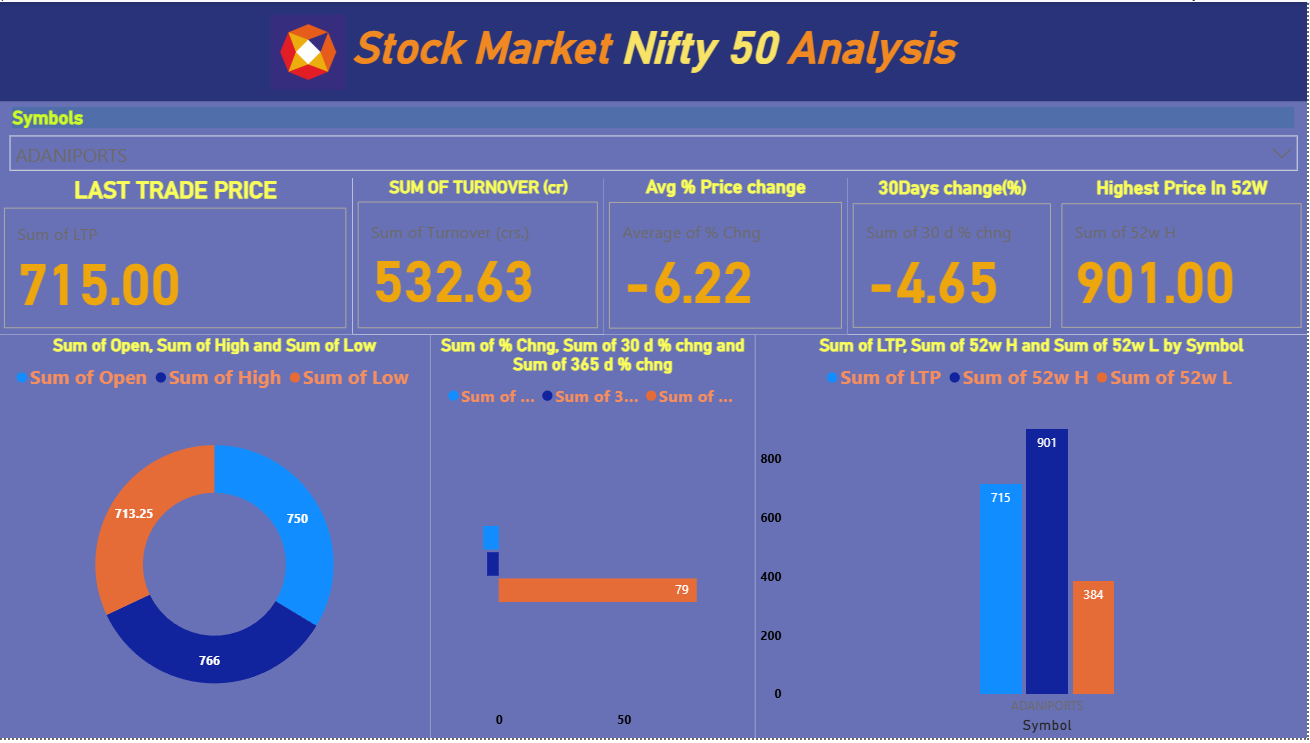

What the dashboard file says about the page in this screenshot:
{"tool":"powerbi","page":{"name":"Page 1","canvas":[1280,720],"ordinal":0},"visuals":[{"type":"textbox","box":[0,0,1280.3,97.4],"z":0},{"type":"image","box":[259.3,6.9,86.4,83.7],"z":1000},{"type":"slicer","fields":{"Values":["Sheet1.Symbol"]},"box":[0,97.4,1280.3,74.1],"z":2000},{"type":"cardVisual","title":"SUM OF TURNOVER (cr)","fields":{"Data":["Sum(Sheet1.Turnover (crs.))"]},"box":[345.8,171.5,245.6,153.7],"z":3000},{"type":"cardVisual","title":"Avg % Price change","fields":{"Data":["Avg(Sheet1.% Chng)"]},"box":[591.4,170.2,238.8,155.1],"z":4000},{"type":"cardVisual","title":"Highest Price In 52W","fields":{"Data":["Sum(Sheet1.52w H)"]},"box":[1034.7,171.5,245.6,153.7],"z":5000},{"type":"cardVisual","title":"LAST TRADE PRICE","fields":{"Data":["Sum(Sheet1.LTP)"]},"box":[0,170.2,345.8,155.1],"z":6000},{"type":"cardVisual","title":"30Days change(%)","fields":{"Data":["Sum(Sheet1.30 d % chng)"]},"box":[830.2,171.5,204.5,153.7],"z":7000},{"type":"clusteredColumnChart","fields":{"Y":["Sum(Sheet1.LTP)","Sum(Sheet1.52w H)","Sum(Sheet1.52w L)"],"Category":["Sheet1.Symbol"]},"box":[739.8,325.3,540.5,395],"z":8000},{"type":"donutChart","fields":{"Y":["Sum(Sheet1.Open)","Sum(Sheet1.High)","Sum(Sheet1.Low)"]},"box":[0,325.3,421.9,395],"z":9000},{"type":"clusteredBarChart","fields":{"Y":["Sum(Sheet1.% Chng)","Sum(Sheet1.30 d % chng)","Sum(Sheet1.365 d % chng)"]},"box":[421.9,325.3,317.9,395],"z":10000}]}

Visuals, with their boxes in screenshot pixels (x1, y1, x2, y2), scaled from the page's 1280x720 canvas onto the 1310x743 screenshot:
textbox: 0 0 1309 101
image: 265 7 354 93
slicer - Sheet1.Symbol: 0 101 1309 177
"SUM OF TURNOVER (cr)" cardVisual: 354 177 605 336
"Avg % Price change" cardVisual: 605 176 850 336
"Highest Price In 52W" cardVisual: 1059 177 1309 336
"LAST TRADE PRICE" cardVisual: 0 176 354 336
"30Days change(%)" cardVisual: 850 177 1059 336
clusteredColumnChart - Sum(Sheet1.LTP) x Sum(Sheet1.52w H): 757 336 1309 742
donutChart - Sum(Sheet1.Open) x Sum(Sheet1.High): 0 336 432 742
clusteredBarChart - Sum(Sheet1.% Chng) x Sum(Sheet1.30 d % chng): 432 336 757 742
